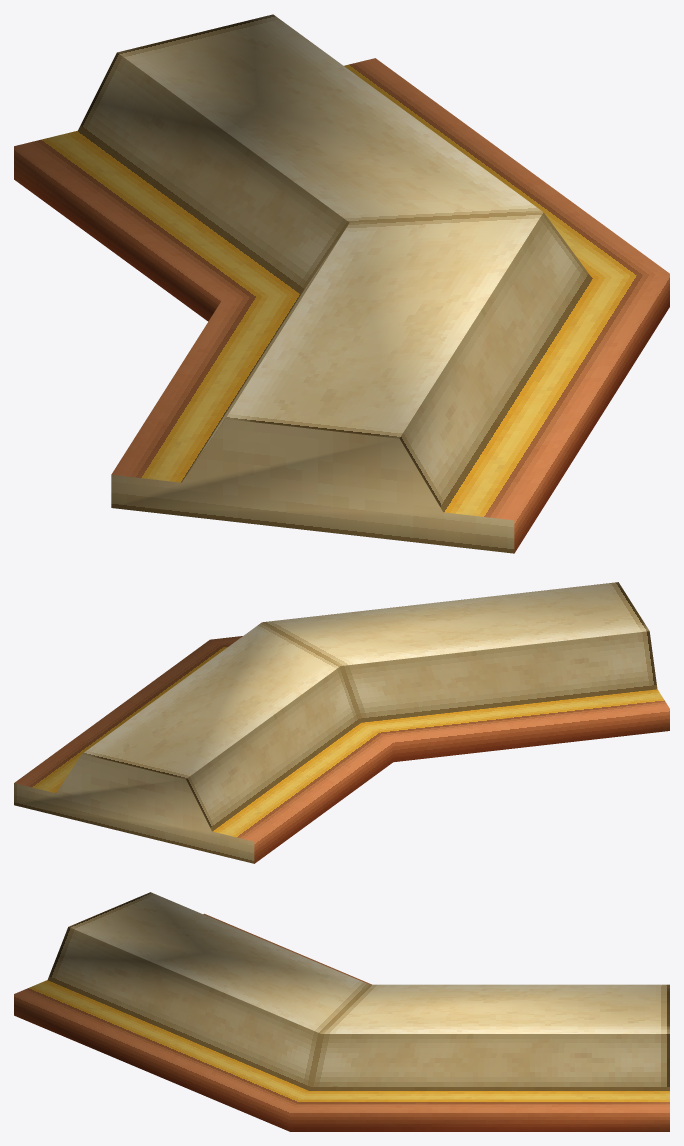
File: a_SEblockB04.glb
3 views of the same model, one above another, from view 1: azimuth 30°, elevation 25°; view 2: azimuth 150°, elevation 25°; view 3: azimuth 270°, elevation 25° (orthographic). The views are drawn at different scales.
Parts seen in each view (by area): view 1: a_SEblockB04; view 2: a_SEblockB04; view 3: a_SEblockB04.
Boxes of the visible parts, x1=… form: a_SEblockB04: x1=14, y1=14, x2=669, y2=553; a_SEblockB04: x1=14, y1=582, x2=669, y2=863; a_SEblockB04: x1=14, y1=892, x2=669, y2=1131.
Bounding box in the file's own units: 1 × 0.1558 × 1.41.
Materials: 1 (1 with a texture image).
